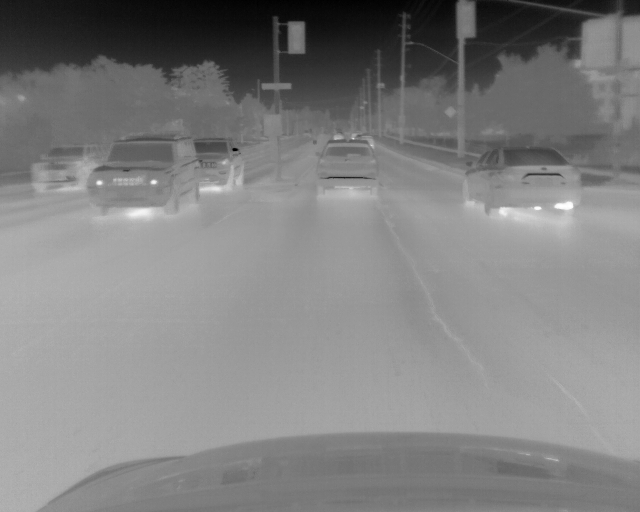car: (95, 136, 198, 220), (463, 145, 578, 216), (315, 140, 378, 196), (31, 144, 95, 193), (196, 137, 244, 193)
